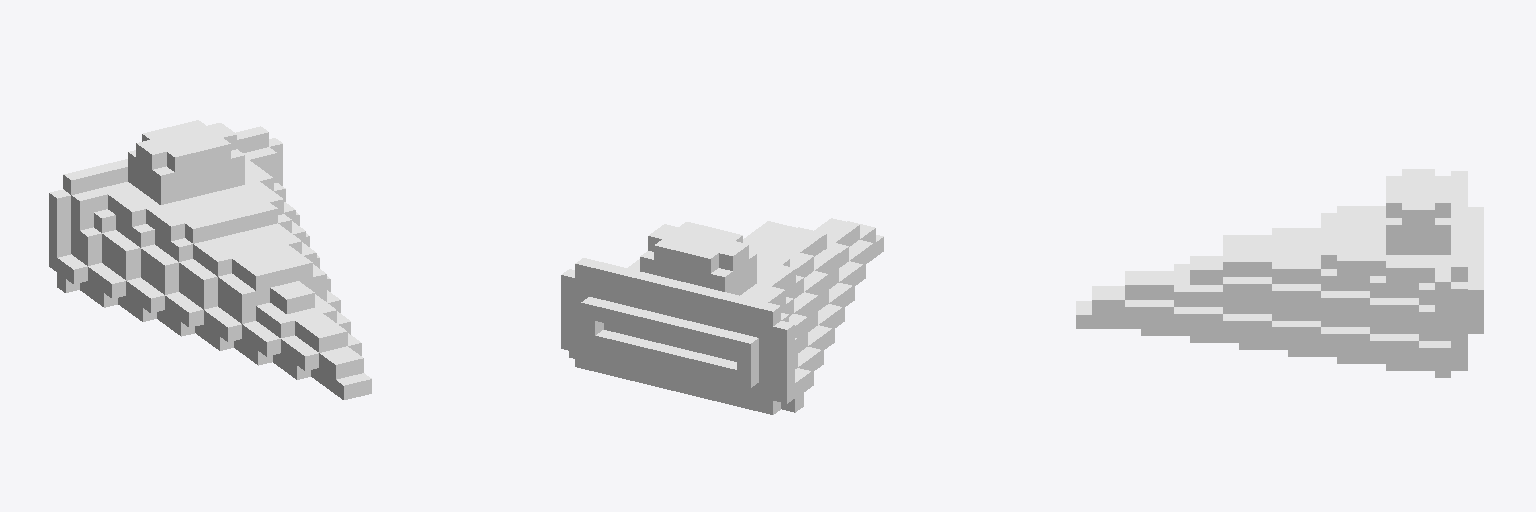
Rendered from Deleter.obj.
The picture shows the model from 3 angles: view 1: azimuth 30°, elevation 25°; view 2: azimuth 150°, elevation 25°; view 3: azimuth 270°, elevation 25°; orthographic projection.
Parts seen in each view (by area): view 1: object 1; view 2: object 1; view 3: object 1.
Boxes of the visible parts, <box> form: object 1: <box>49,120,371,399</box>; object 1: <box>561,218,883,414</box>; object 1: <box>1076,169,1483,377</box>.
Size of the model in its own units: 1.6 by 0.9 by 2.5.